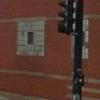Traffic light: (50, 0, 82, 43)
